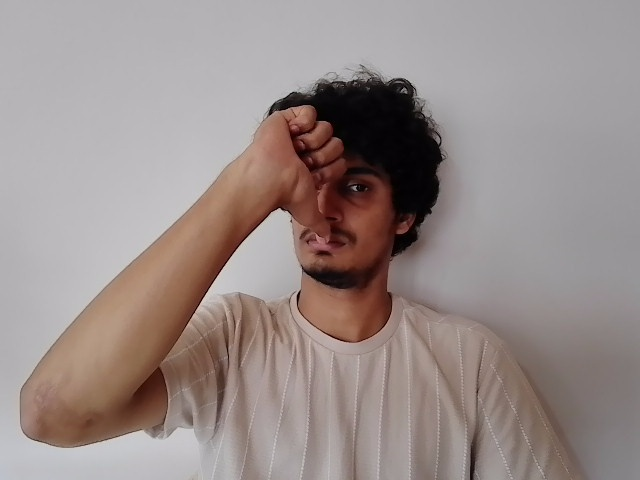drink: (249, 106, 414, 277)
